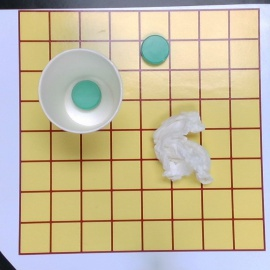cup_green: (38, 48, 123, 132)
green: (141, 34, 169, 62)
